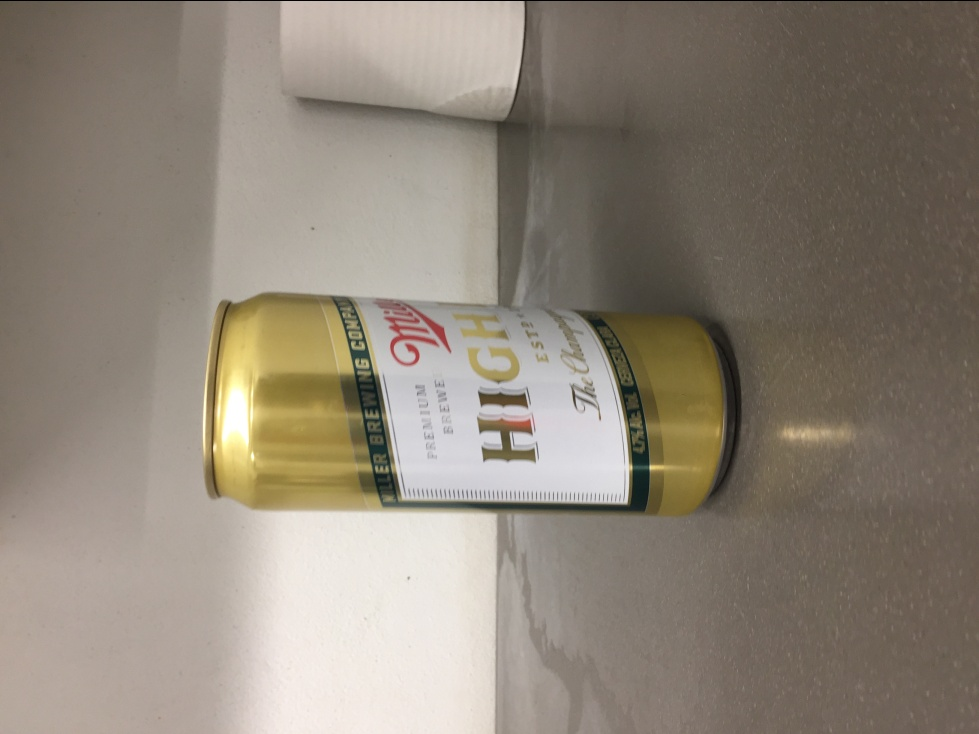miller: (199, 286, 741, 520)
